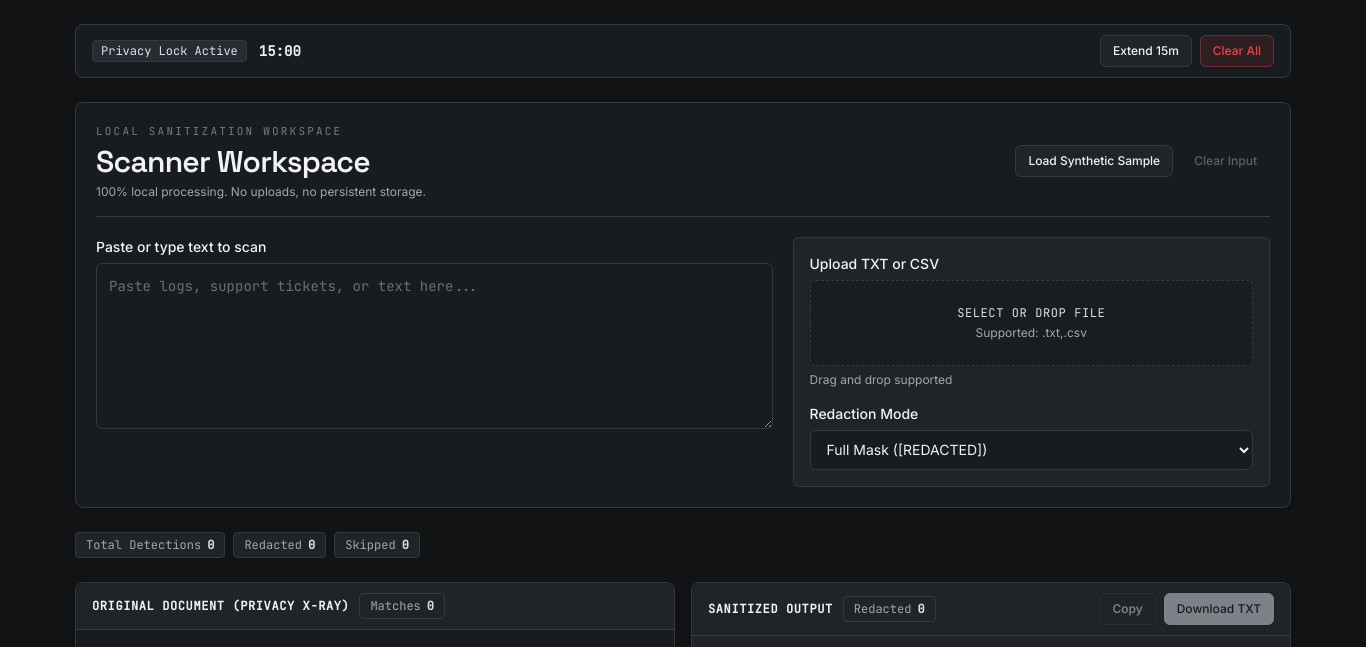
Phase 3 ScannerWorkspace › copies sanitized output to clipboard
The image size is (1366, 647).
Click the button "Load Synthetic Sample" at coordinates (1094, 161), box [1015,145,1173,177]
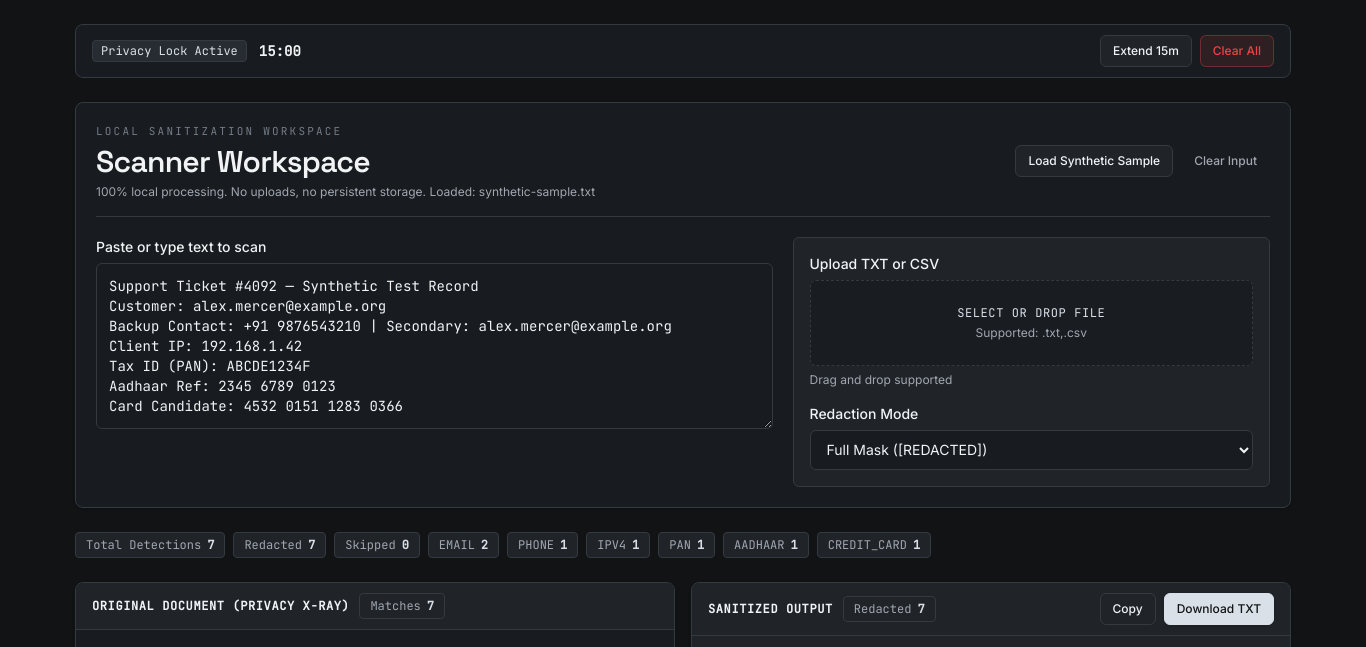
Click the button "Copy" at coordinates (1128, 608), box [1100,592,1156,624]
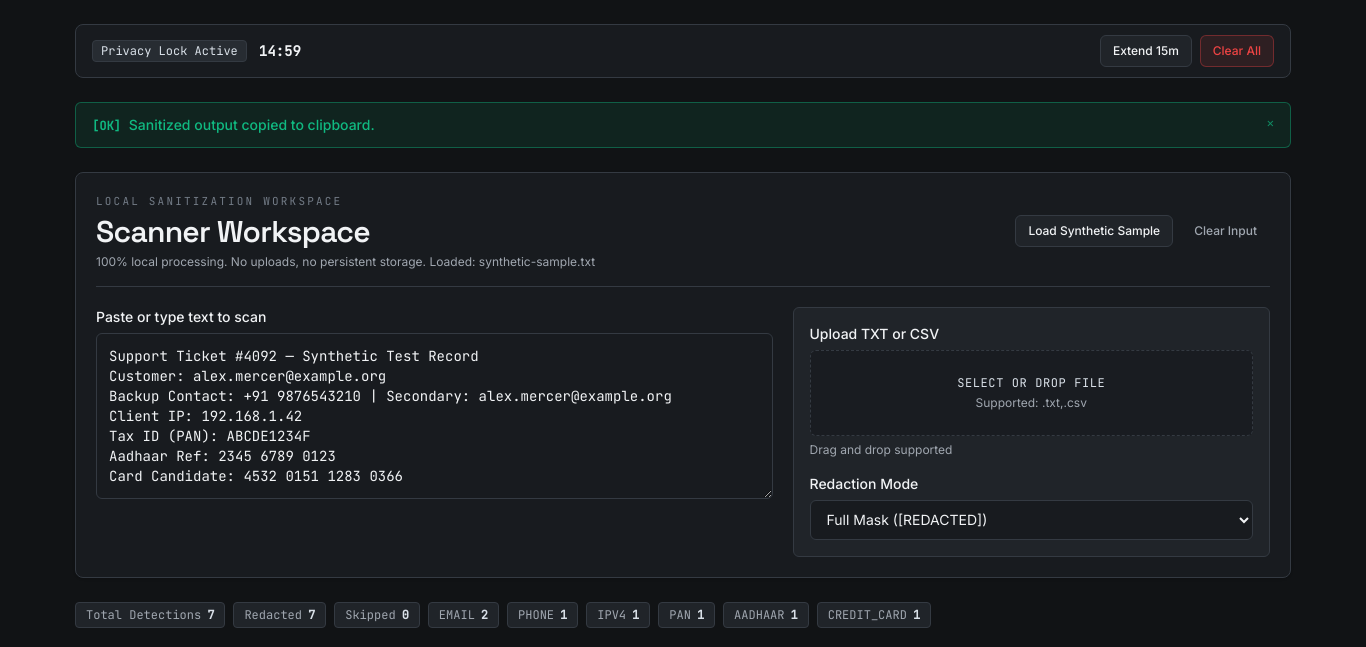
Expected: the text "Sanitized output copied to clipboard." is shown, [129,116,375,133]
